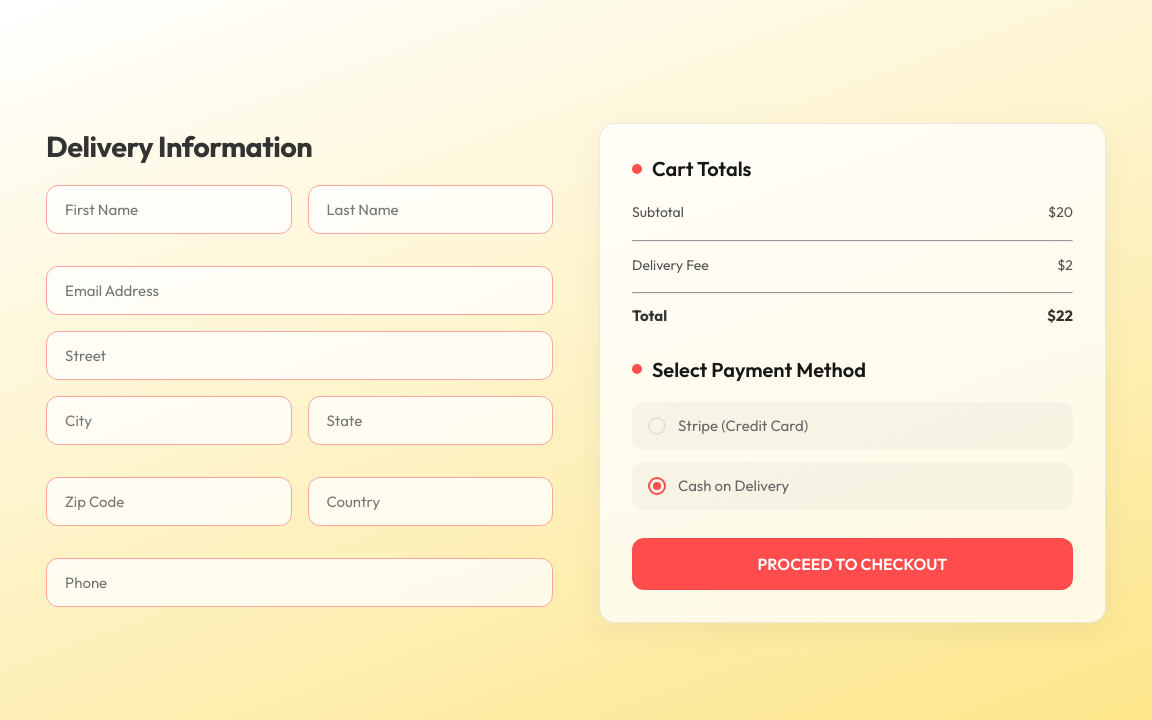
it: PlaceOrder Page › switches to stripe payment method
Click the text "Stripe (Credit Card)" at (743, 426), box [678, 414, 808, 438]
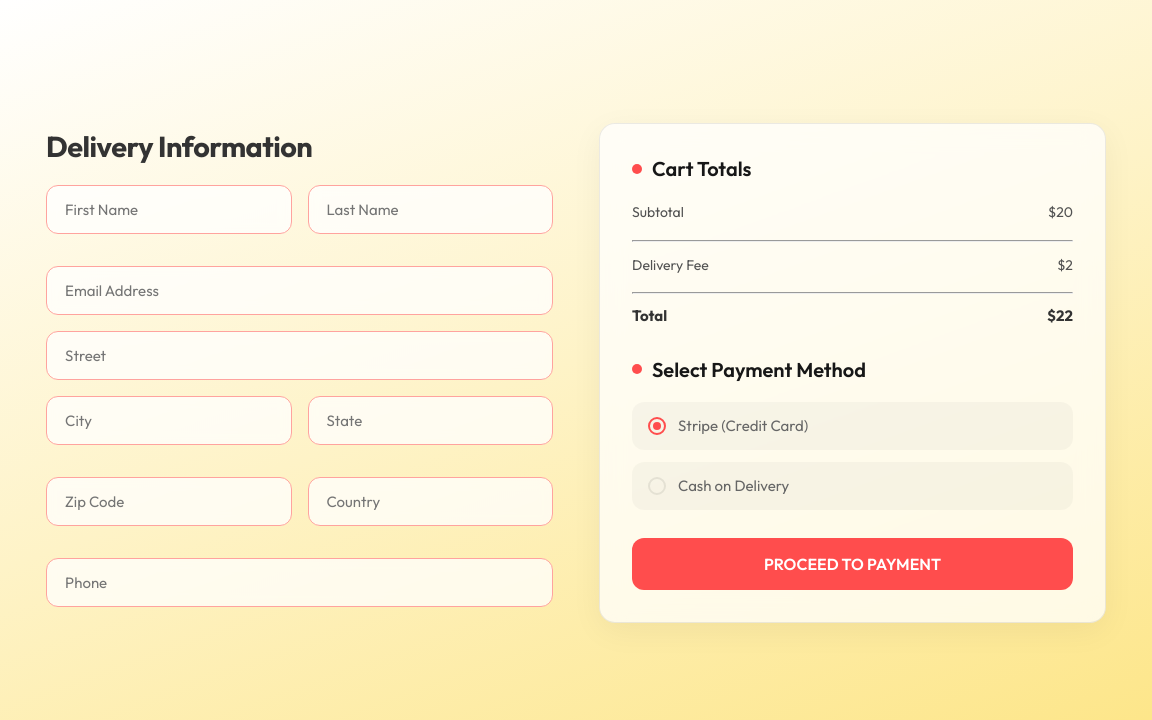
Result: the button "PROCEED TO PAYMENT" is shown at [632, 538, 1073, 590]
